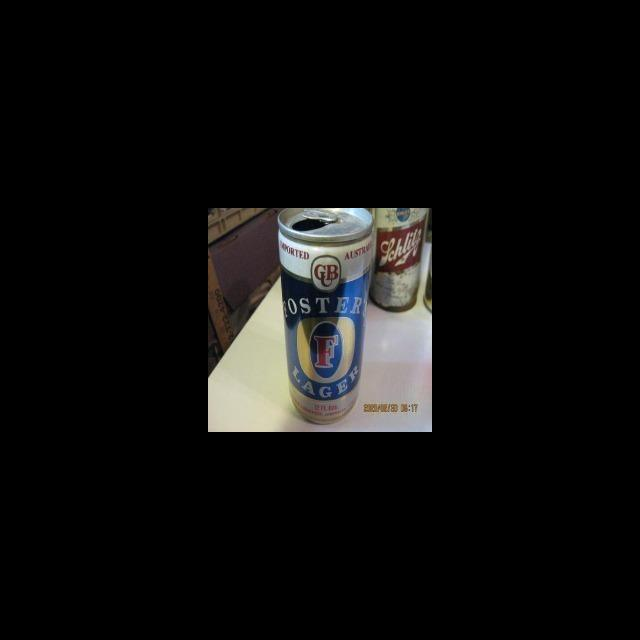metal: (274, 208, 375, 432), (372, 208, 432, 322)
